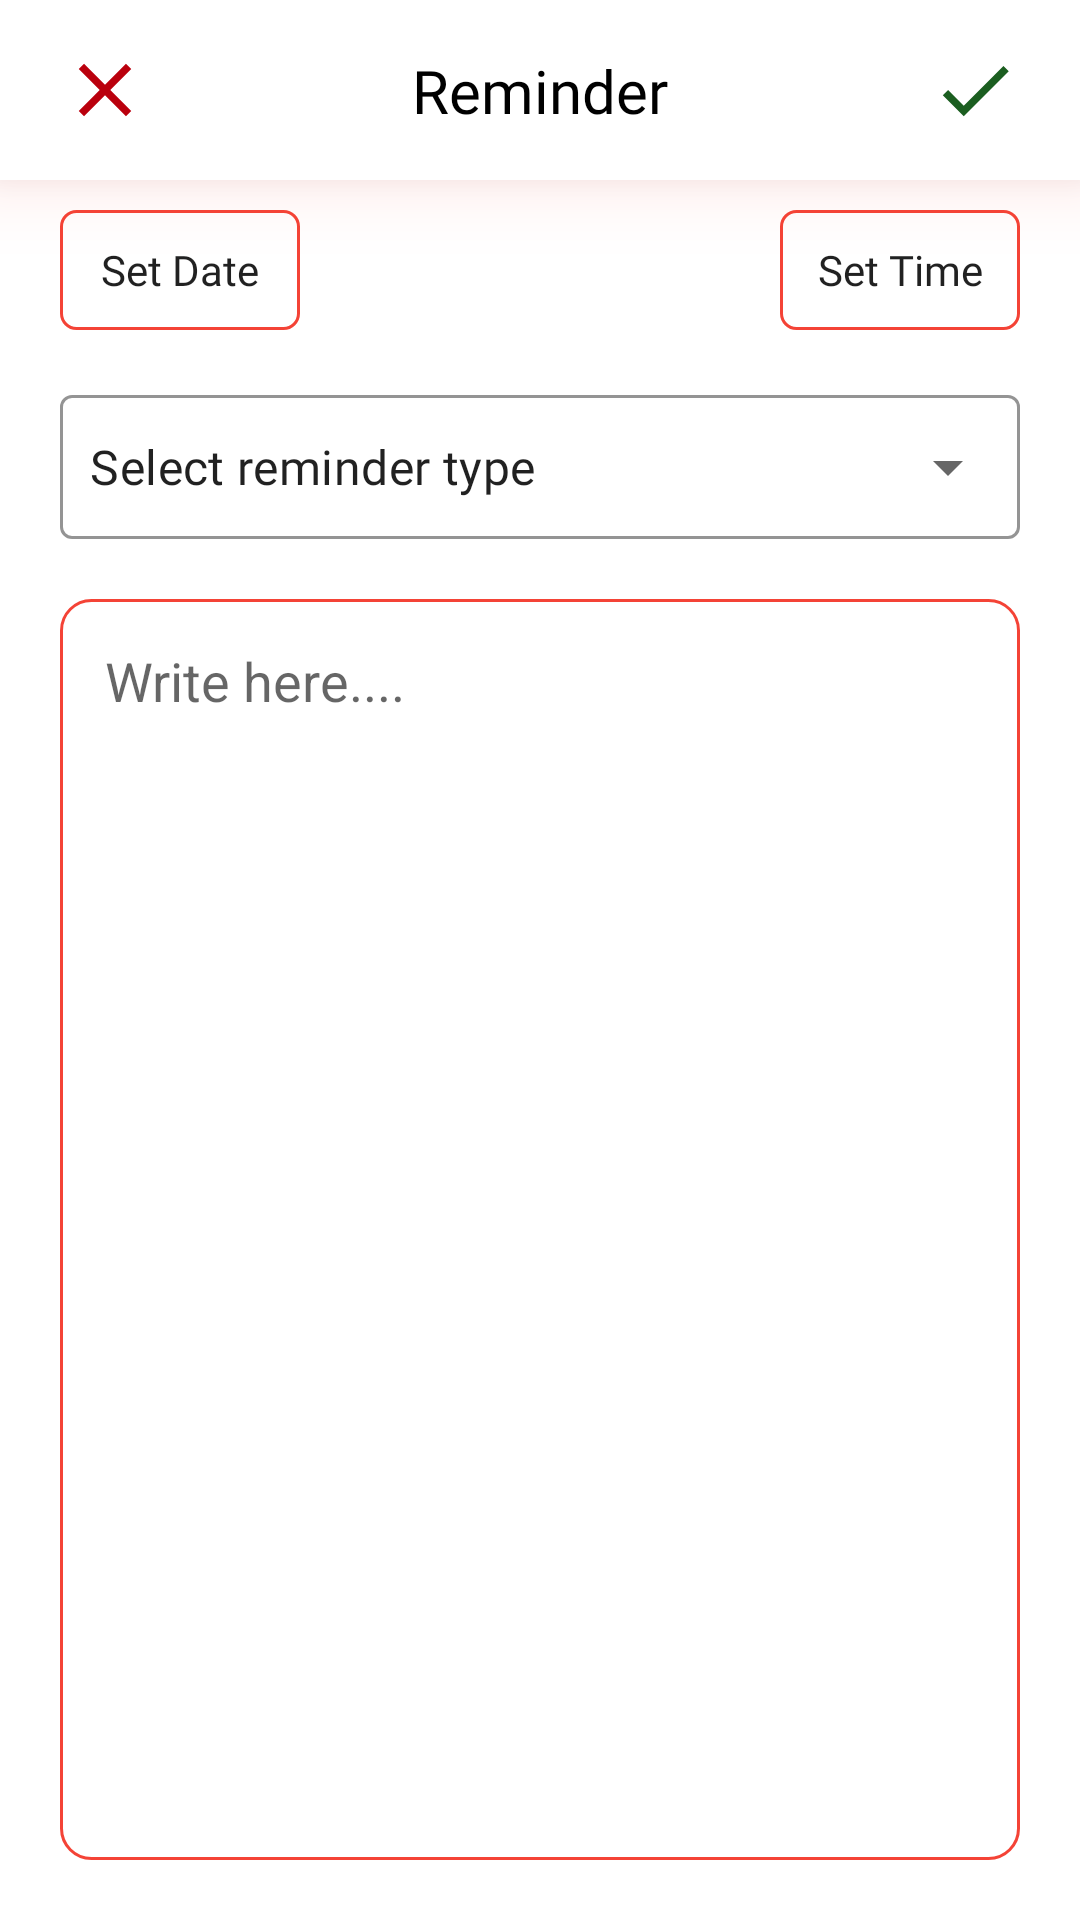

Icon click points for this 1080 × 1920 phone screenshot, format (x=x, y=y):
check: (x=976, y=91)
clear: (x=105, y=90)
